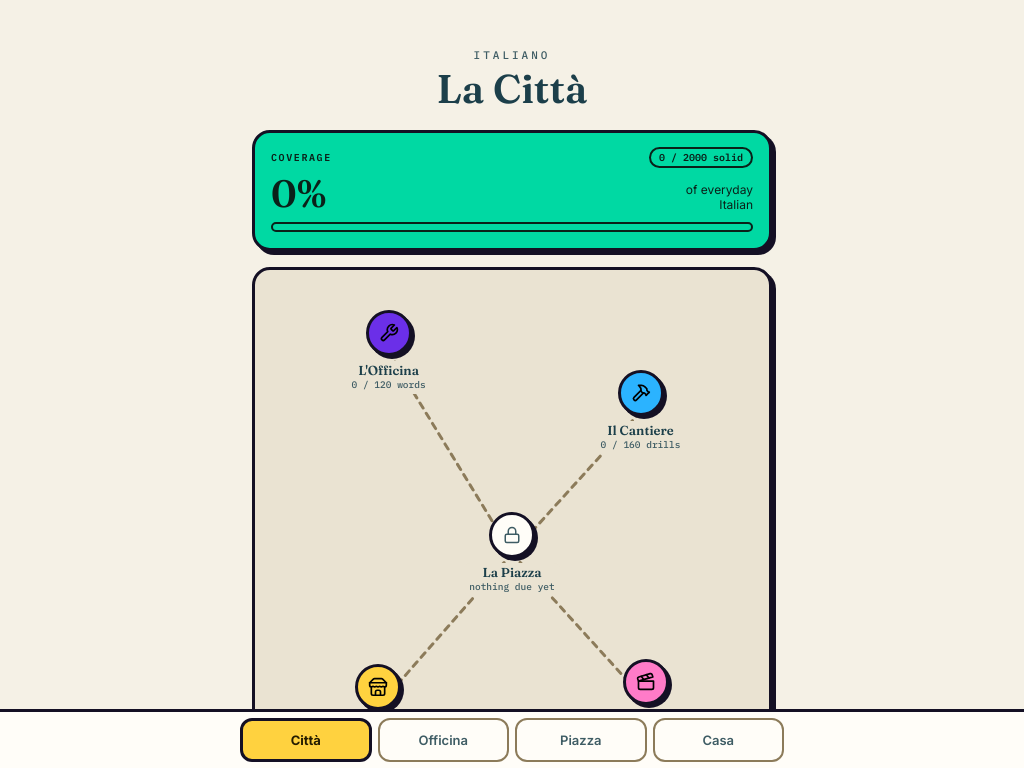
Test: Lo Stadio › goes back to Casa's front screen when the Casa tab is pressed
Click the button "Casa" at (718,740), box [652,718,784,762]
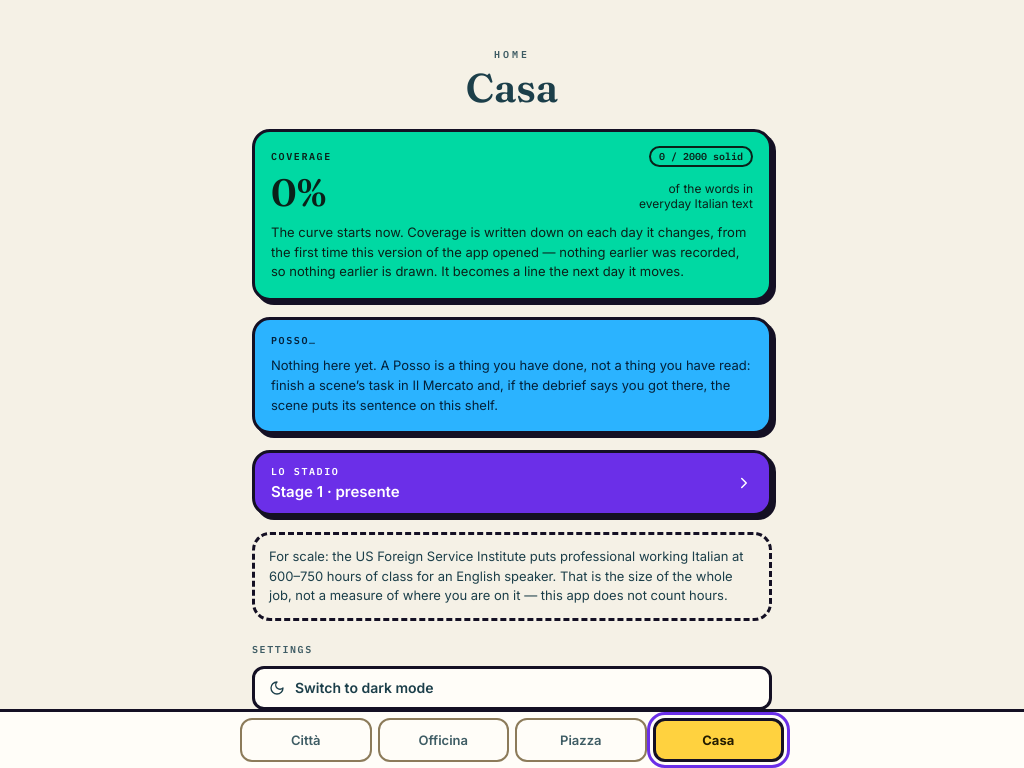
Click the button "Lo Stadio Stage 1 · presente" at (305,472), box [252,450,772,516]
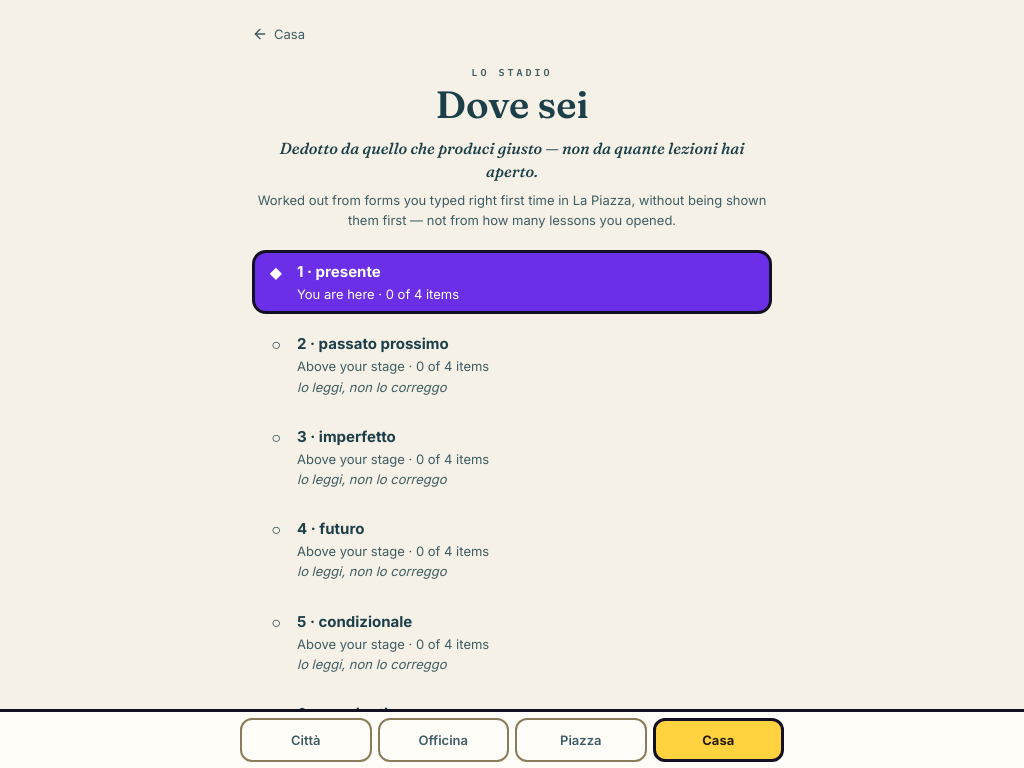
Click the 2nd button "Casa" at (718,740), box [652,718,784,762]
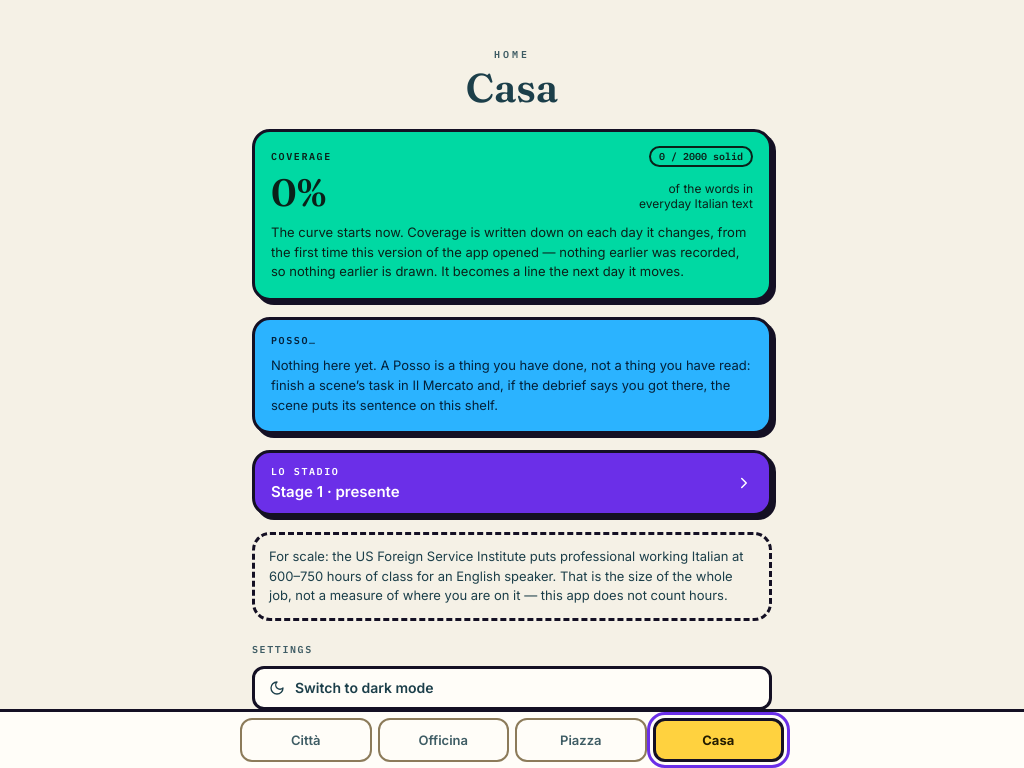
Check: the heading "Casa" is shown, box [466,63,558,112]
